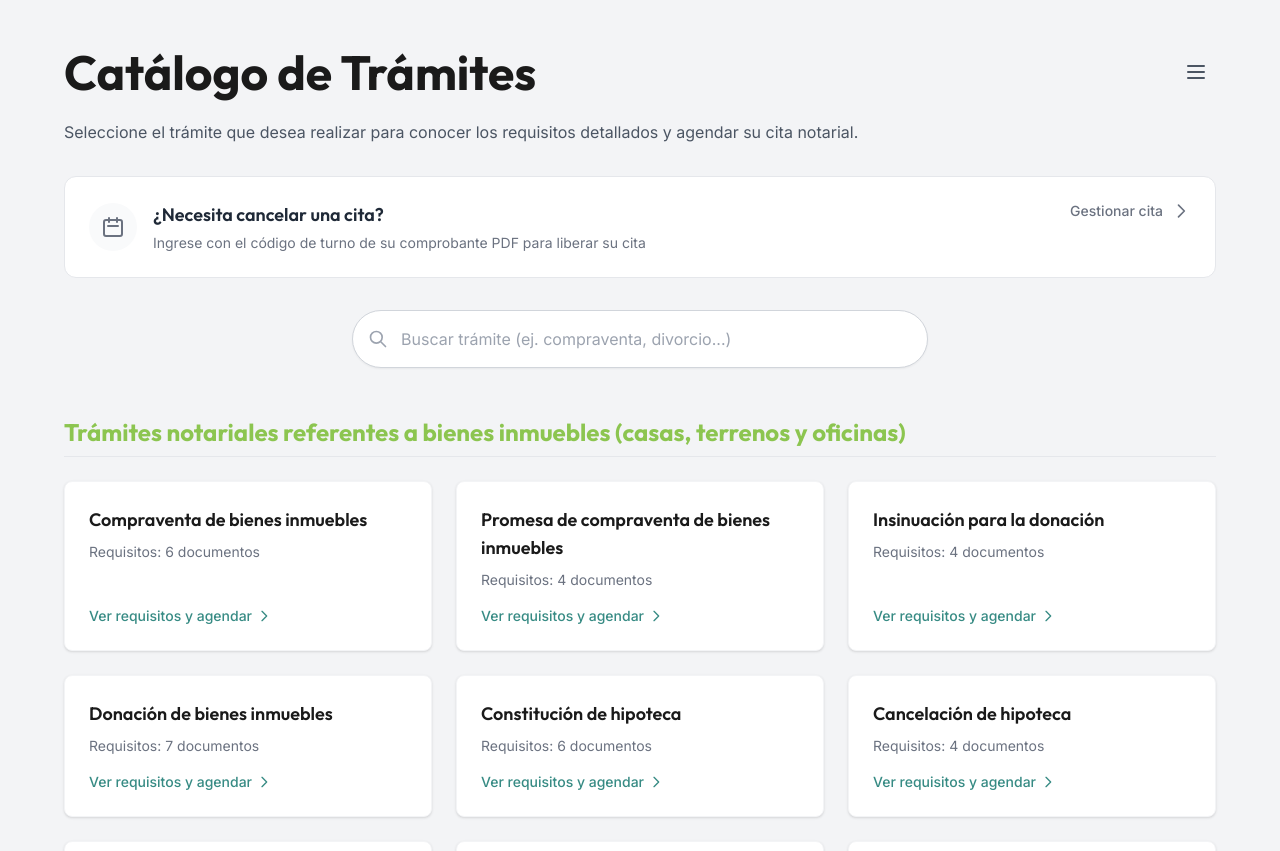
Test case: Booking Flow (Catálogo y Agendamiento) E2E Simulation › allows opening mobile category filter and filtering by category
Click the button "Abrir menú de categorías". click: (1196, 72)
box: x1=1176 y1=52 x2=1216 y2=92
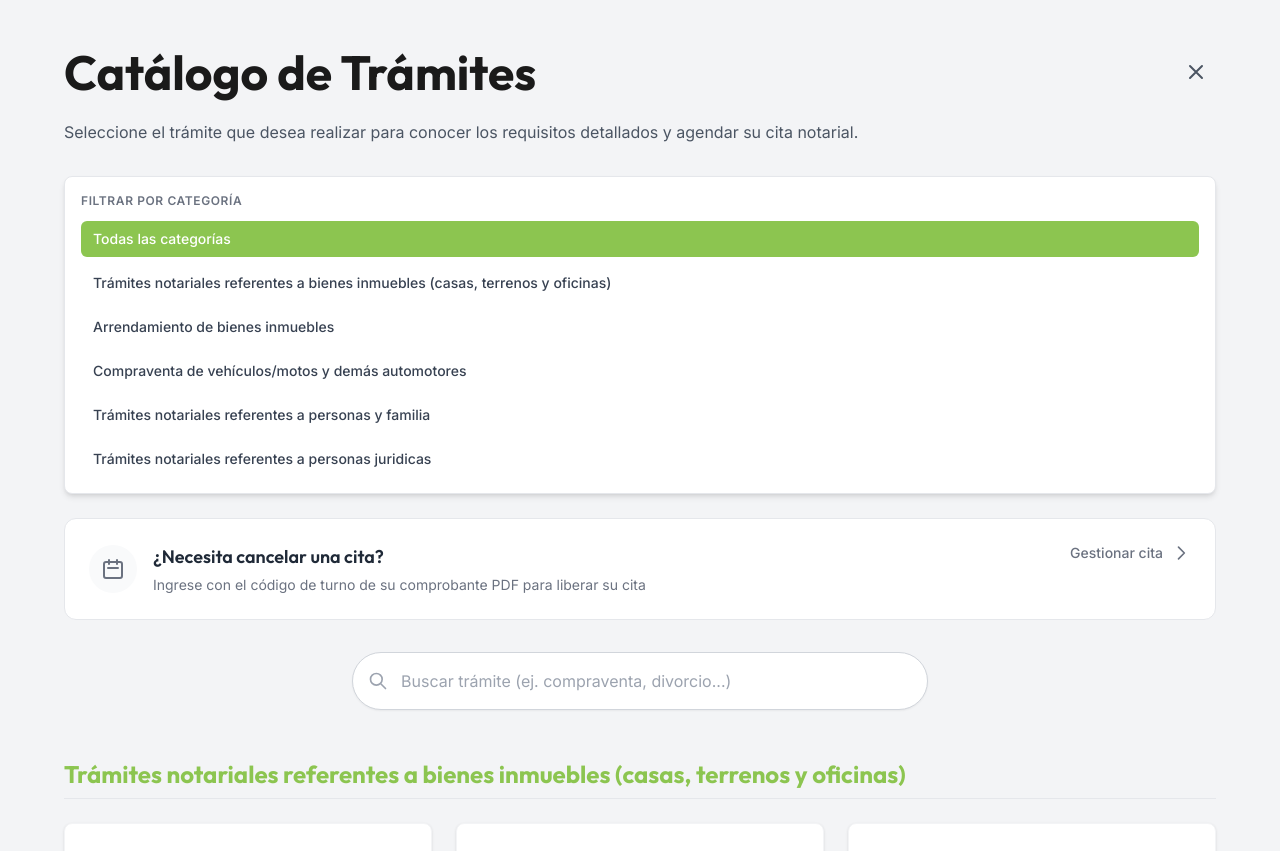
Expected: the text "Filtrar por categoría" is shown, x1=81 y1=193 x2=242 y2=208
